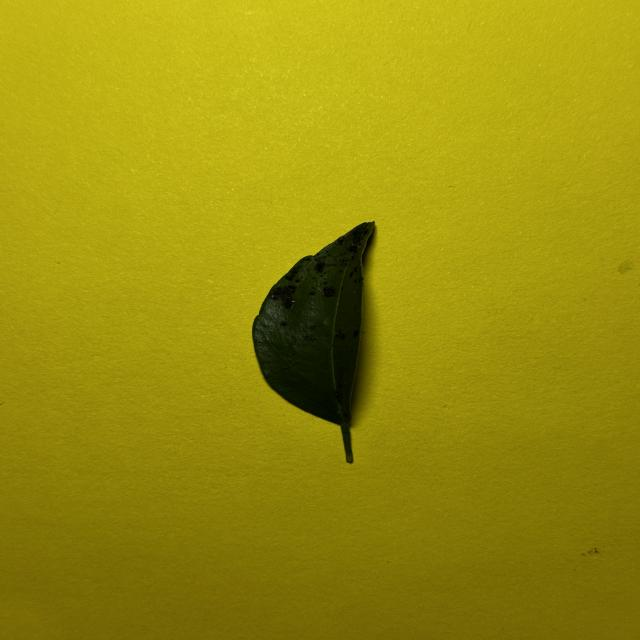sooty_mold: (252, 222, 374, 462)
